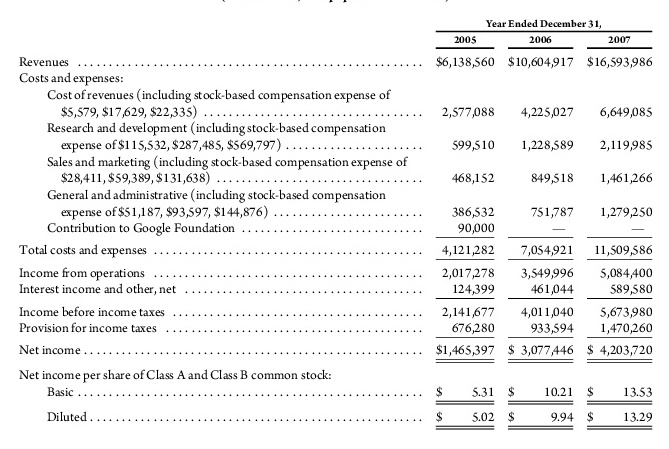table: (0, 0, 669, 449)
